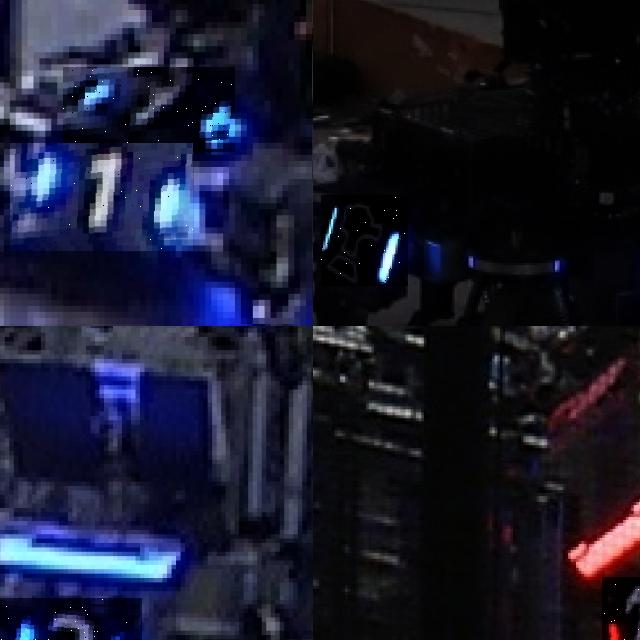B1: (10, 143, 193, 251), (63, 67, 235, 152)
B2: (0, 597, 142, 640)
Bs: (321, 195, 408, 286)
R2: (602, 576, 640, 640)
